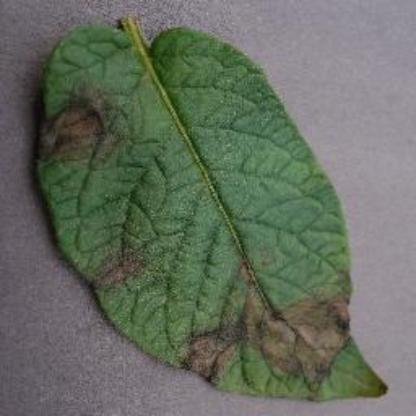Late-Blight: (13, 9, 410, 407)
